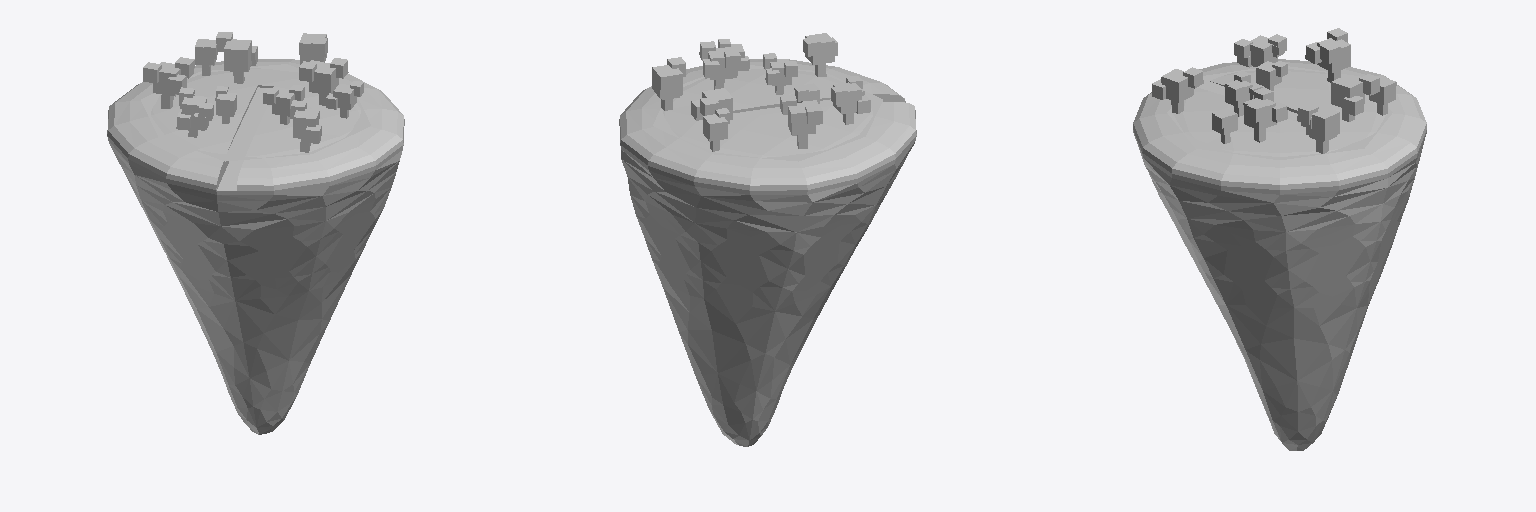
The model's file is islandOld.obj.
3 renders of one model, left to right at view 1: azimuth 30°, elevation 25°; view 2: azimuth 150°, elevation 25°; view 3: azimuth 270°, elevation 25°, orthographic.
Parts seen in each view (by area): view 1: Ground, Tree2, Tree4, Ground.002, Tree3, Tree1; view 2: Ground, Tree2, Tree3, Tree4, Ground.002, Tree1; view 3: Ground, Tree2, Tree4, Tree3, Tree1, Ground.002.
Boxes of the visible parts, x1,y1,x2,y2 form: Ground: [107, 59, 404, 434]; Tree2: [143, 57, 348, 124]; Tree4: [179, 81, 363, 152]; Ground.002: [141, 64, 370, 161]; Tree3: [195, 33, 327, 123]; Tree1: [176, 32, 257, 130]; Ground: [619, 59, 916, 446]; Tree2: [699, 41, 822, 148]; Tree3: [652, 57, 819, 151]; Tree4: [718, 33, 864, 124]; Ground.002: [653, 65, 882, 161]; Tree1: [691, 76, 870, 120]; Ground: [1133, 59, 1426, 450]; Tree2: [1225, 28, 1350, 142]; Tree4: [1152, 34, 1286, 143]; Tree3: [1256, 61, 1396, 153]; Tree1: [1234, 39, 1379, 121]; Ground.002: [1167, 66, 1392, 159].
Size of the model in its own units: 4 by 5.62 by 4.